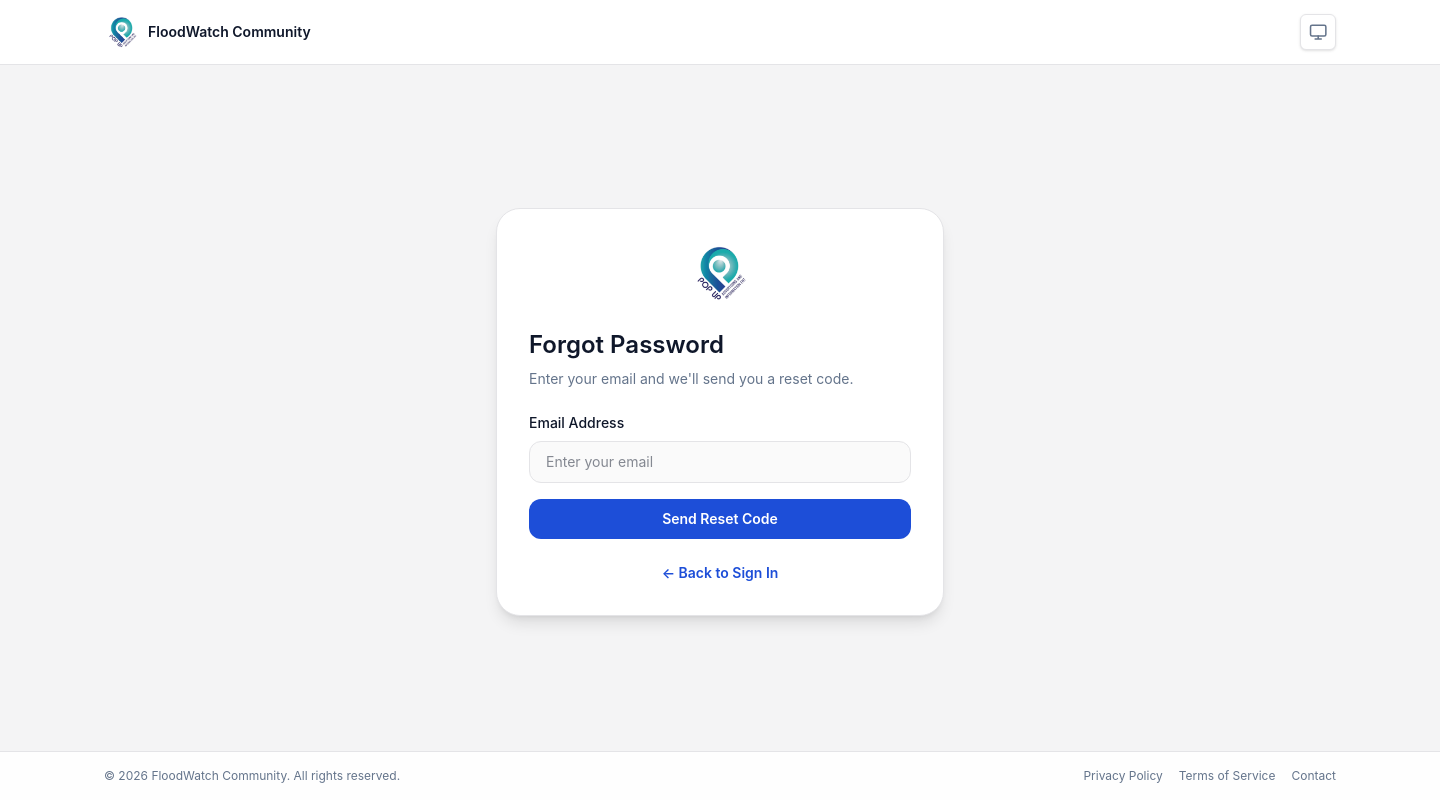
Scenario: Community · forgot password › sends a reset code and shows the confirmation panel
In the field with id "email": (720,462) [529, 441, 911, 483], type "ada@example.com"
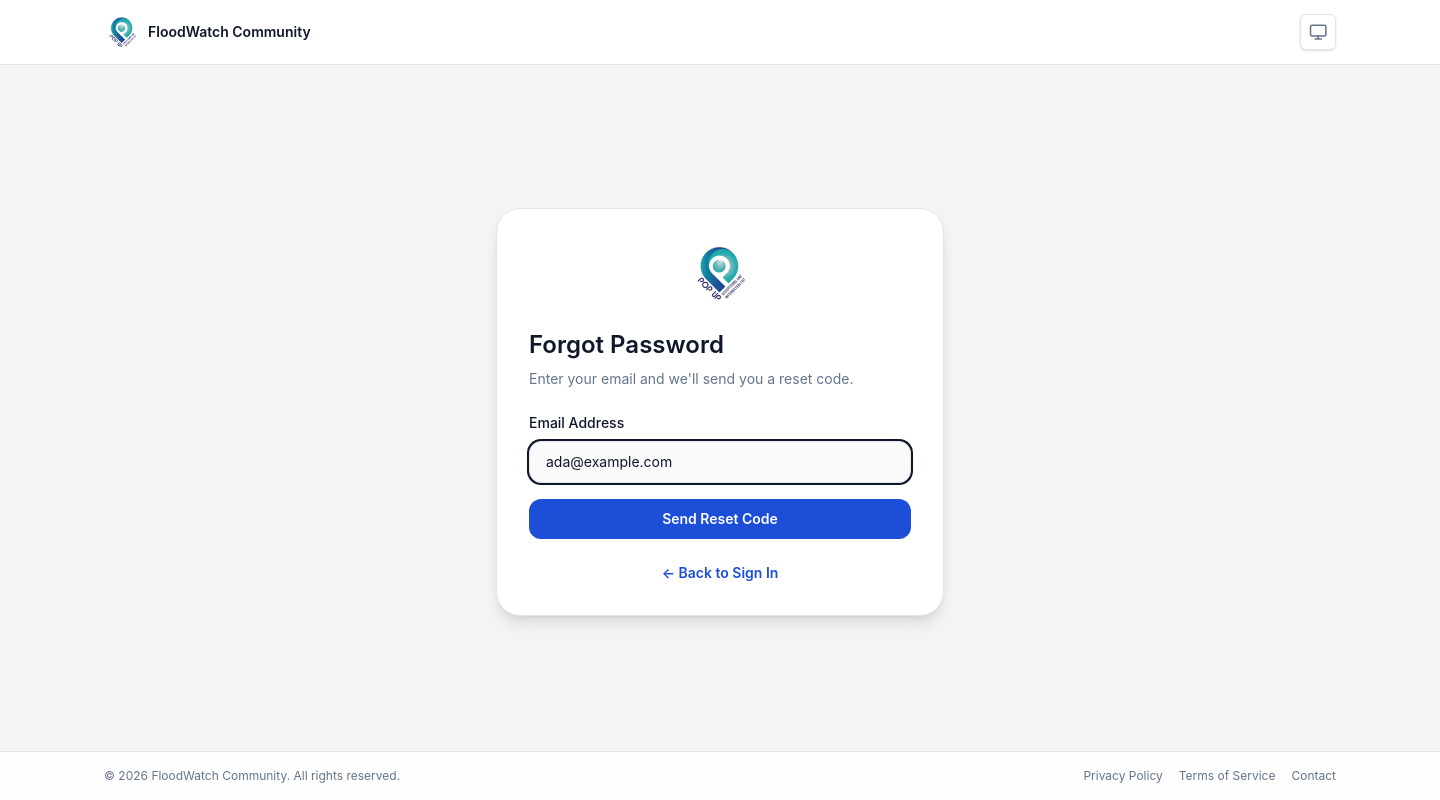
Click the button with test id "forgot-submit": (720,519) [529, 499, 911, 539]
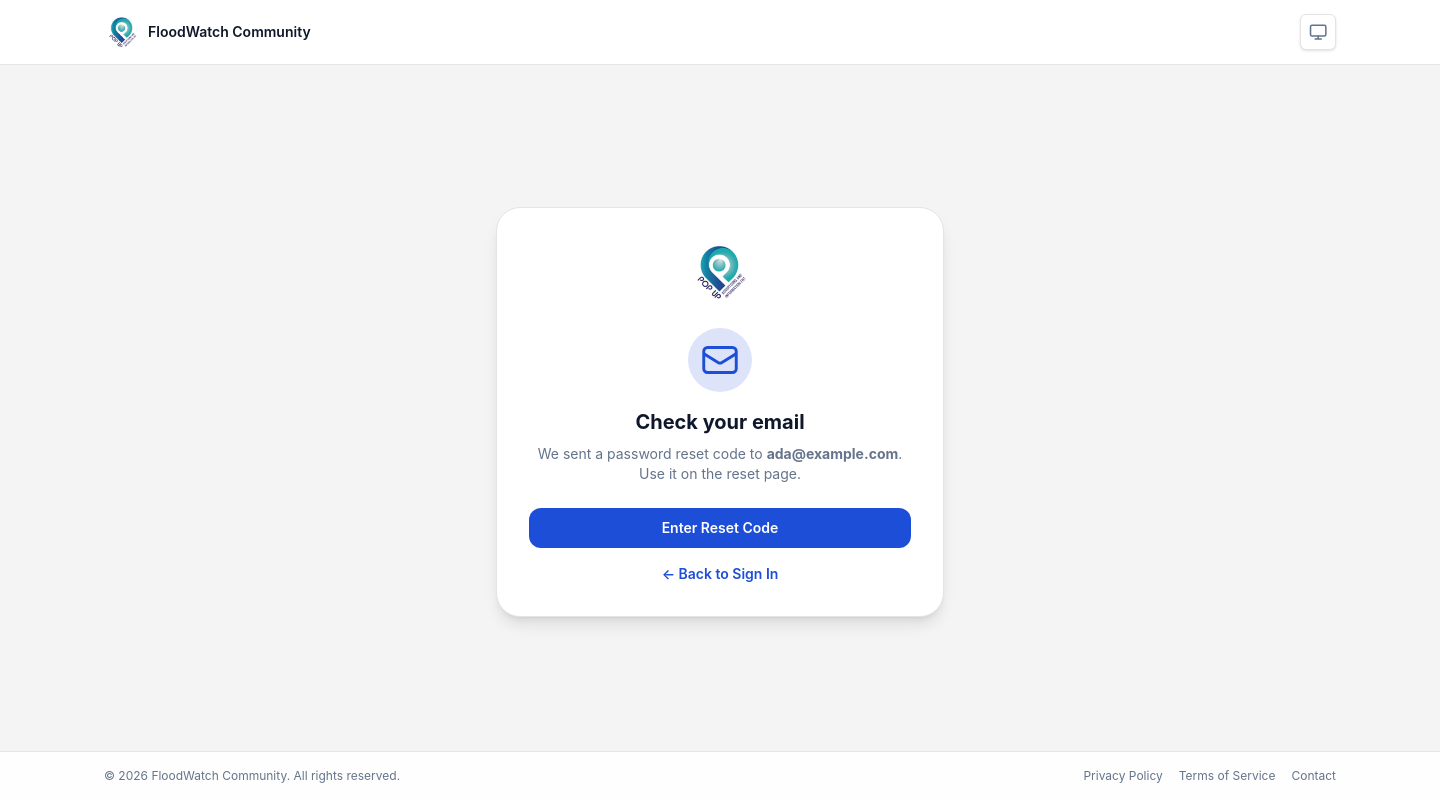
Expected: the element with test id "forgot-sent" is shown, [529, 328, 911, 584]
Expected: the heading "Check your email" is shown, [635, 410, 805, 434]
